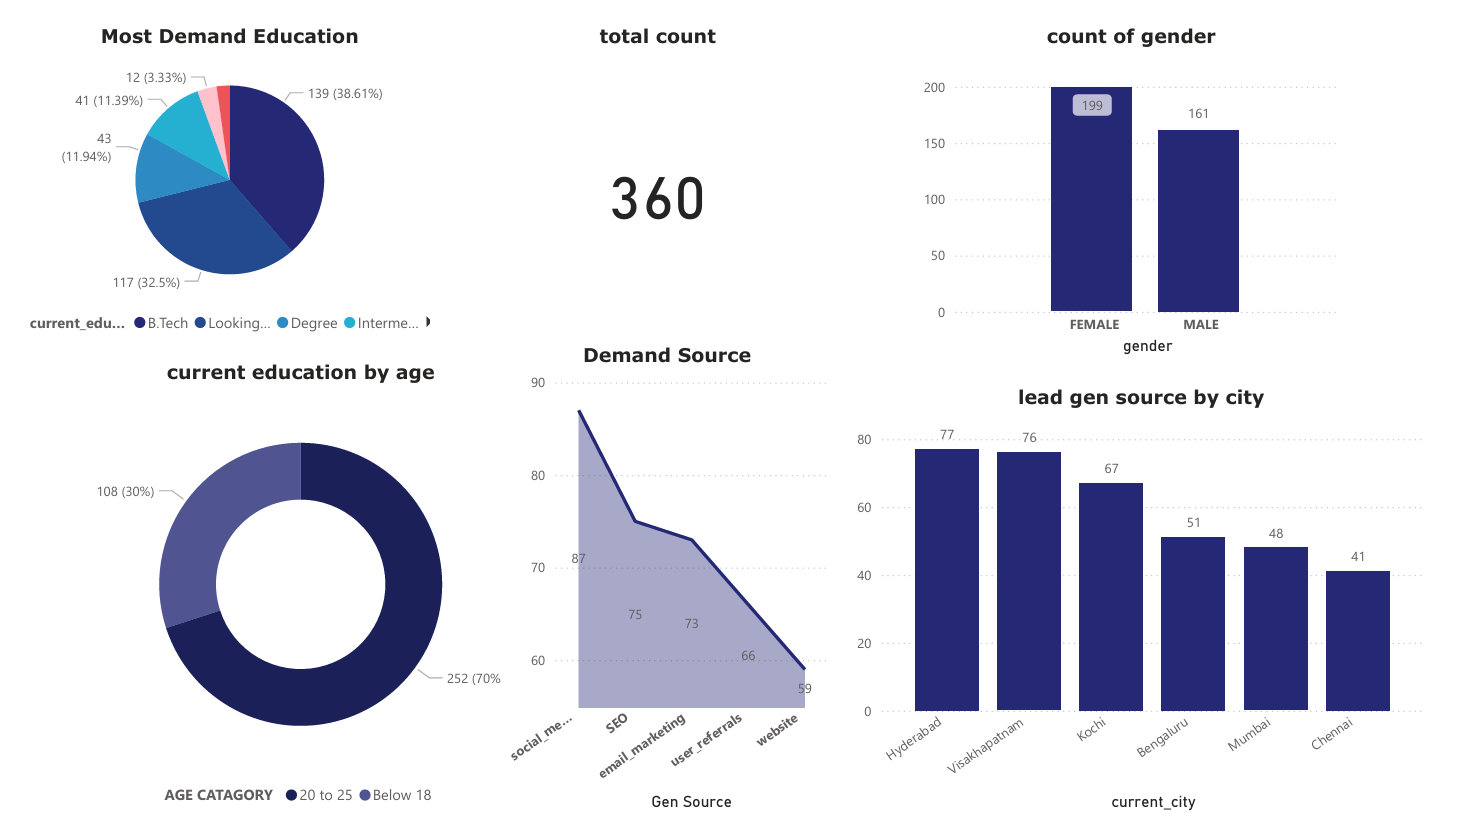

The dashboard page shown, as its layout file describes it:
{"tool":"powerbi","page":{"name":"Page 1","canvas":[1280,720],"ordinal":0},"visuals":[{"type":"donutChart","title":"current education by age","fields":{"Y":["CountNonNull(leads_basic_details.current_education)"],"Category":["leads_basic_details.AGE CATAGORY (groups)"]},"box":[0,305.7,502.9,414.3],"z":0},{"type":"columnChart","title":"lead gen source by city","fields":{"Category":["leads_basic_details.current_city"],"Y":["CountNonNull(leads_basic_details.lead_gen_source)"]},"box":[752.5,327.5,527.5,392.5],"z":1000},{"type":"pieChart","title":"Most Demand Education","fields":{"Category":["leads_basic_details.current_education"],"Y":["CountNonNull(leads_basic_details.lead_gen_source)"]},"box":[0,0,374.3,290],"z":2000},{"type":"lineStackedColumnComboChart","title":"count of gender","fields":{"Category":["leads_basic_details.gender"],"Y":["CountNonNull(leads_basic_details.current_education)"]},"box":[813.3,0,388.3,305],"z":3000},{"type":"card","title":"total count","fields":{"Values":["CountNonNull(leads_basic_details.age)"]},"box":[384.4,0,384.4,280],"z":4000},{"type":"stackedAreaChart","title":"Demand Source","fields":{"Category":["leads_basic_details.lead_gen_source"],"Y":["CountNonNull(leads_basic_details.current_education)"]},"box":[433.8,290,302.5,430],"z":5000}]}

Visuals, with their boxes in screenshot pixels (x1, y1, x2, y2), scaled from the page's 1280x720 canvas onto the 1457x813 screenshot:
"current education by age" donutChart: l=0, t=345, r=572, b=812
"lead gen source by city" columnChart: l=857, t=370, r=1456, b=812
"Most Demand Education" pieChart: l=0, t=0, r=426, b=327
"count of gender" lineStackedColumnComboChart: l=926, t=0, r=1368, b=344
"total count" card: l=438, t=0, r=875, b=316
"Demand Source" stackedAreaChart: l=494, t=327, r=838, b=812
